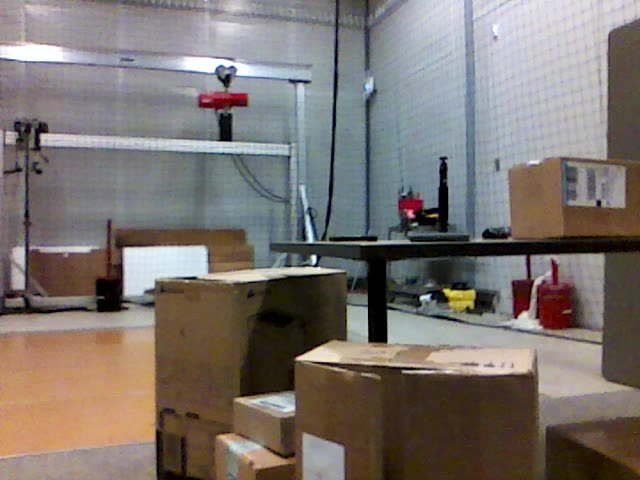box: (157, 268, 350, 480), (295, 339, 540, 480), (509, 156, 640, 237), (545, 416, 640, 478), (235, 393, 301, 449)
